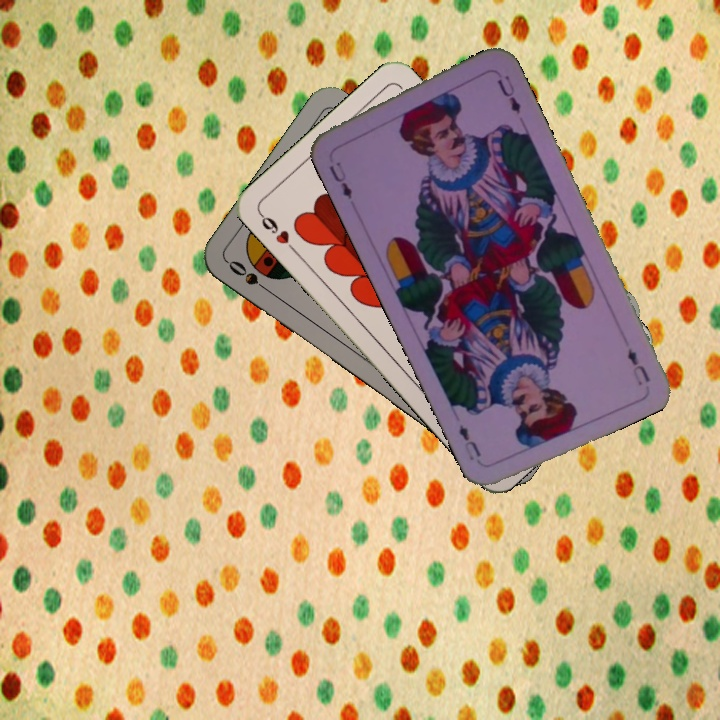EU: (325, 157, 355, 202), (623, 344, 653, 388)
H9: (255, 209, 300, 256)
SO: (223, 256, 275, 297)
